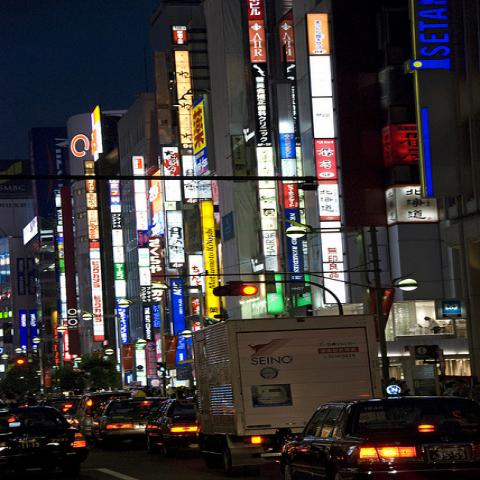car: (278, 395, 479, 479), (0, 406, 88, 469), (90, 390, 168, 450), (147, 398, 198, 455), (76, 390, 134, 431), (37, 395, 84, 430)
truck: (196, 317, 386, 438)
